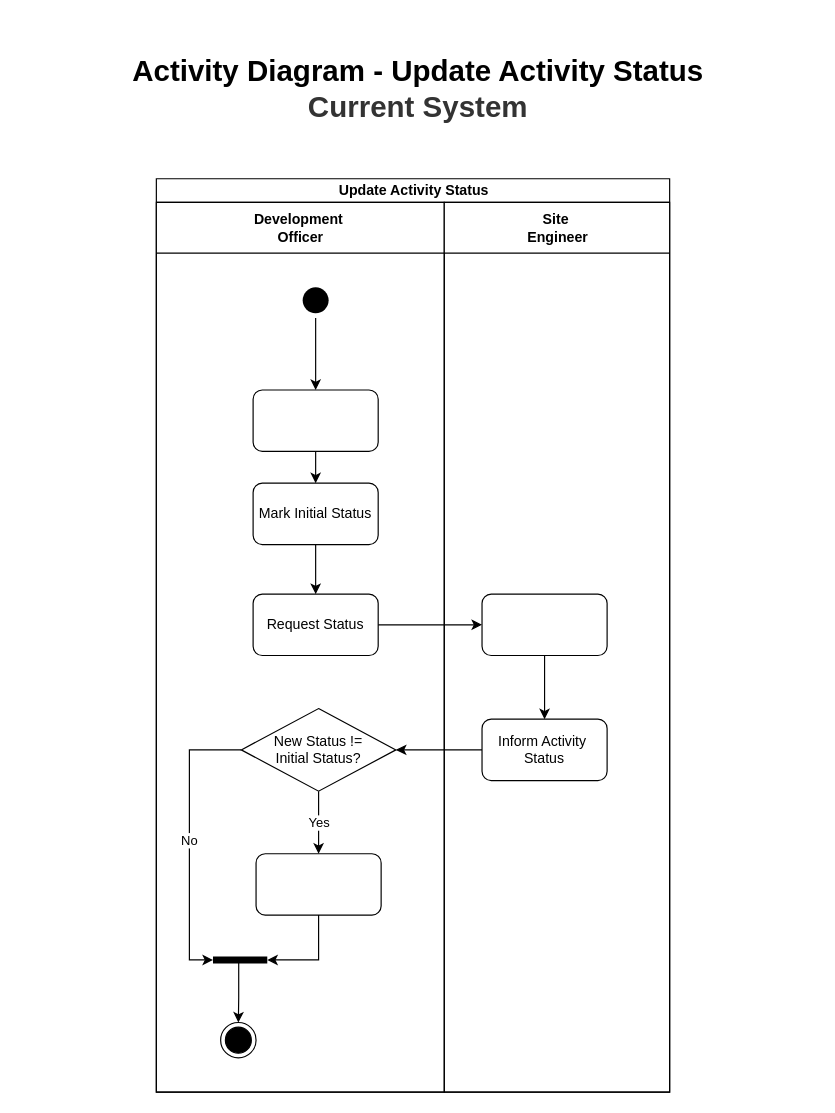
Some shapes in this 835 by 1113 pixel diagram are drawn without their labels. Here are the shapes that lost their labels. From the top down, the centre of each, then its label:
point (315, 420): Select Activity
point (544, 624): Check Status
point (318, 884): Update Status
